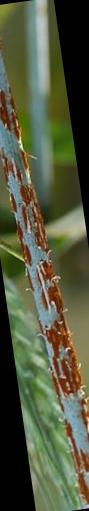Wheat: (0, 93, 89, 467)
